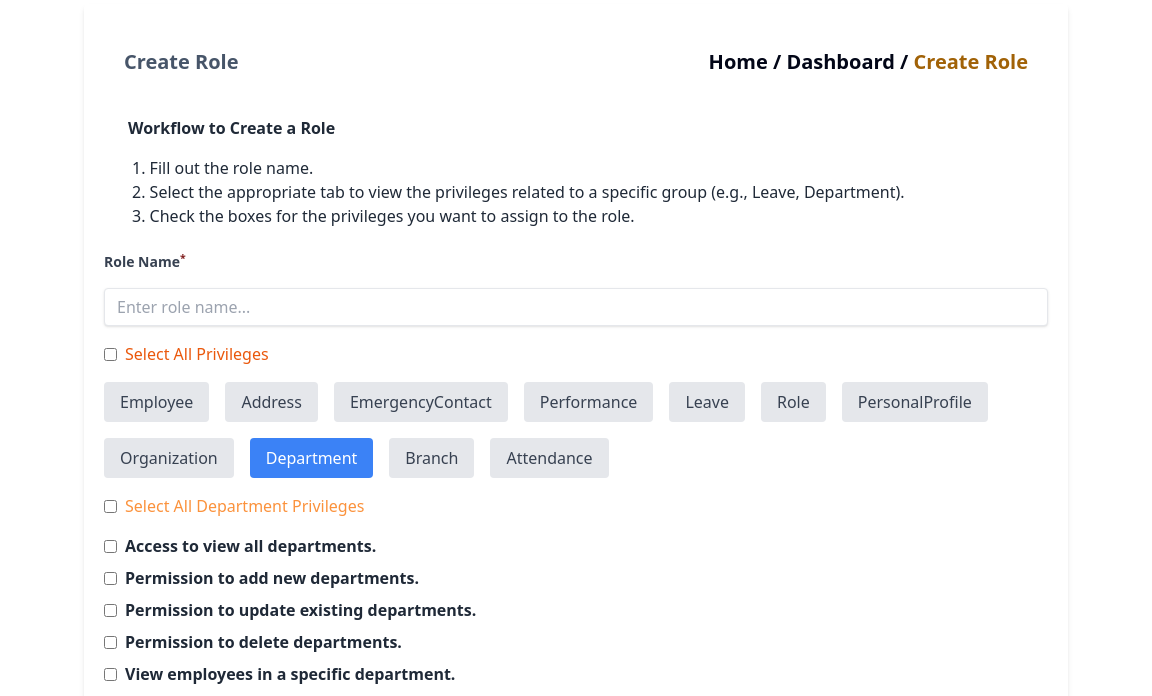
Test: CreateUpdateRole › should display an error if role name is invalid
Type "A" into the field with placeholder "Enter role name..." at (576, 307), box 104,288 -> 1048,326
(page scrolled)
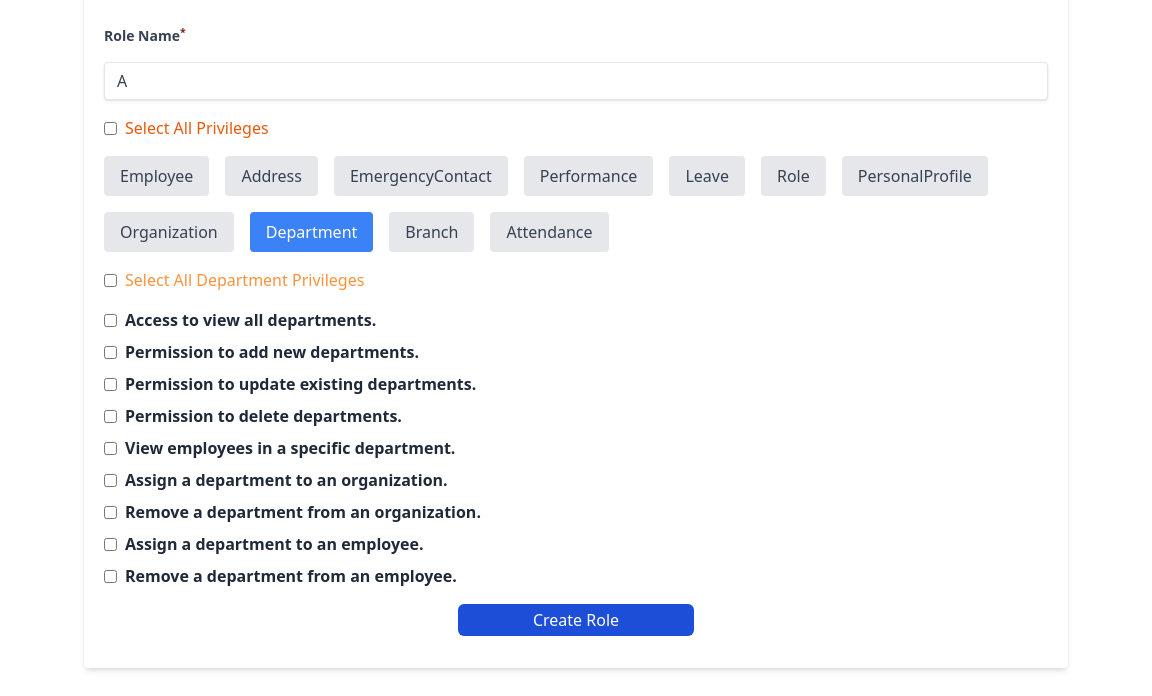
Click the button "Create Role" at (576, 620), box 458,604 -> 694,636
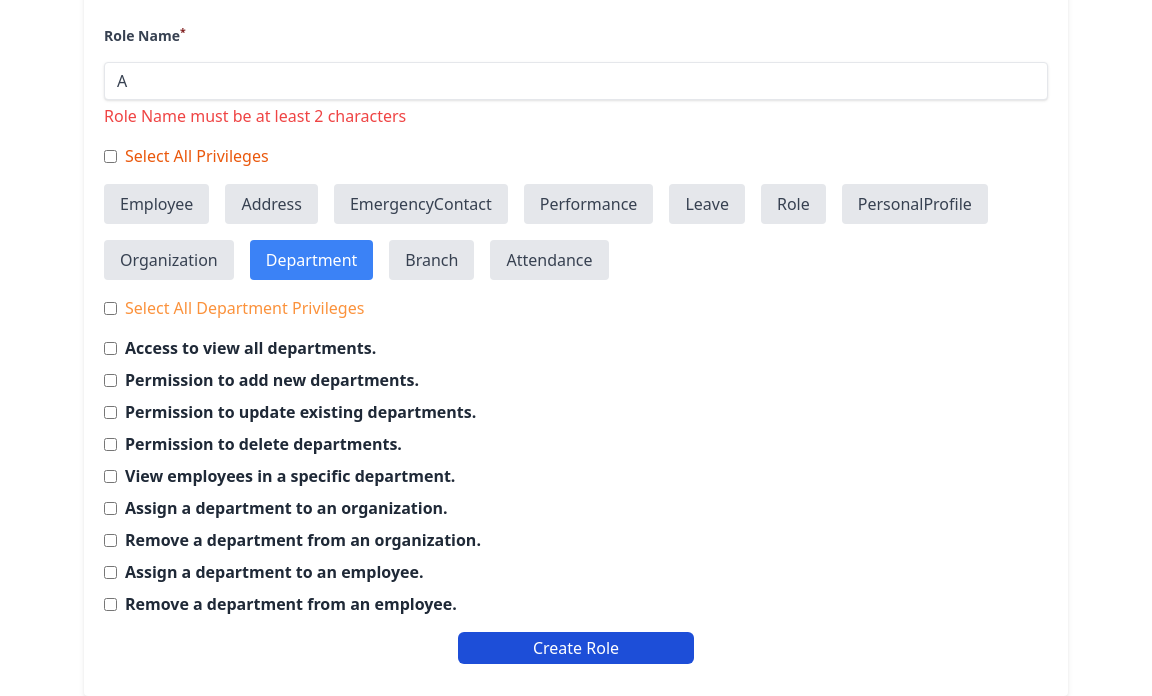
Check: the text "Role Name must be at least 2 characters" is shown, box 104,105 -> 406,127
